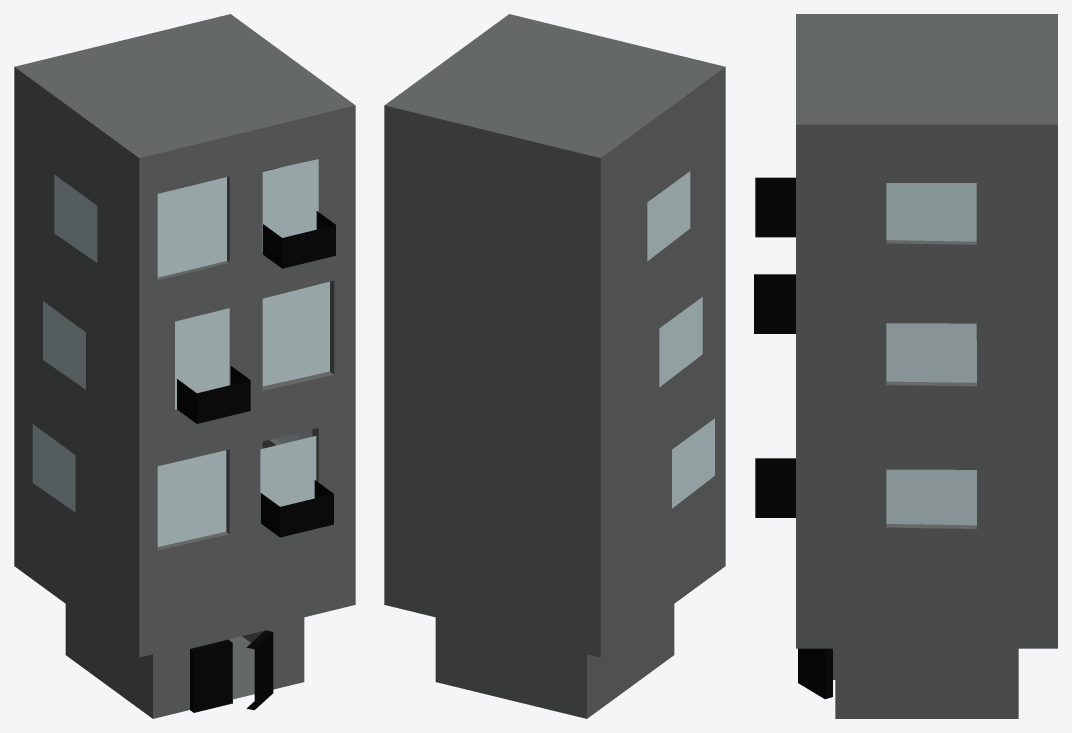
The model's file is flatdonkergrijs.fbx.
3 views of the same model, side by side, from view 1: azimuth 30°, elevation 25°; view 2: azimuth 150°, elevation 25°; view 3: azimuth 270°, elevation 25° (orthographic). The views are drawn at different scales.
Visible parts, largest first — view 1: Cube, Cube.005, Cube.004, Cube.006, Cube.014, Cube.013, Cube.012, Cube.007, Cube.017, Cube.015, Cube.016, Cube.002 (+3 smaller); view 2: Cube, Cube.016, Cube.015, Cube.017; view 3: Cube, Cube.010, Cube.009, Cube.011, Cube.002, Cube.001, Cube.003, Cube.008.
Part boxes in pixels (x1,y1,x2,y2): Cube: [14, 14, 355, 718]; Cube.005: [262, 281, 329, 386]; Cube.004: [157, 177, 226, 277]; Cube.006: [157, 450, 226, 546]; Cube.014: [175, 308, 229, 409]; Cube.013: [262, 159, 318, 251]; Cube.012: [260, 436, 316, 522]; Cube.007: [190, 639, 232, 712]; Cube.017: [32, 424, 75, 512]; Cube.015: [54, 174, 97, 262]; Cube.016: [43, 301, 85, 389]; Cube.002: [177, 366, 250, 423]; Cube: [384, 14, 725, 718]; Cube.016: [659, 297, 702, 387]; Cube.015: [647, 171, 690, 260]; Cube.017: [672, 418, 714, 508]; Cube: [796, 14, 1057, 718]; Cube.010: [886, 323, 976, 382]; Cube.009: [886, 183, 976, 241]; Cube.011: [886, 469, 976, 525]; Cube.002: [754, 274, 795, 333]; Cube.001: [755, 177, 795, 237]; Cube.003: [755, 458, 795, 517]; Cube.008: [798, 648, 832, 699].
Bounding box in the file's own units: 598 × 1368 × 617.
